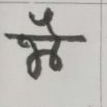ai_matra: (29, 7, 64, 35)
